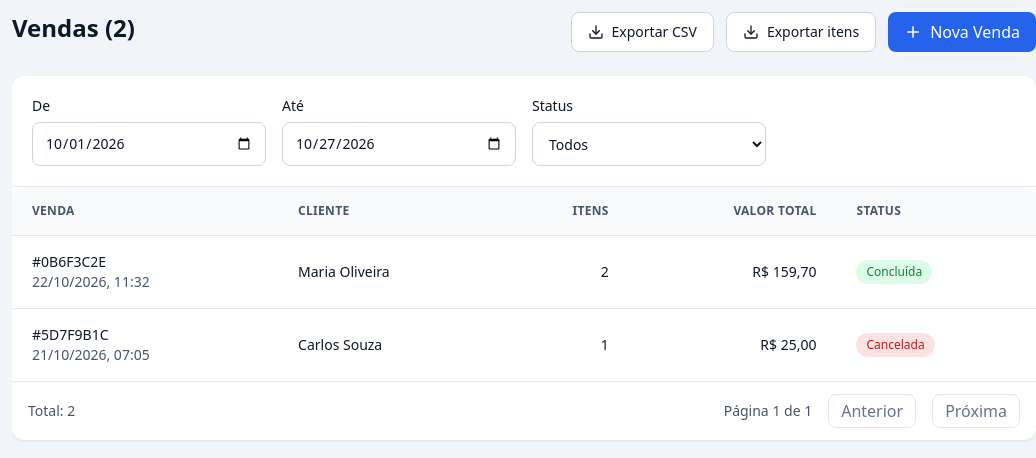
Test: SaleListPage: período e status na lista › data inicial depois da final também esconde as linhas e avisa o período
Expected: the text "Maria Oliveira" is shown, 278,236 -> 500,308
Type "2000-01-01" into the date field labelled "Até".
click(399, 144); type("2000-01-01")  # box 282,122 -> 516,166
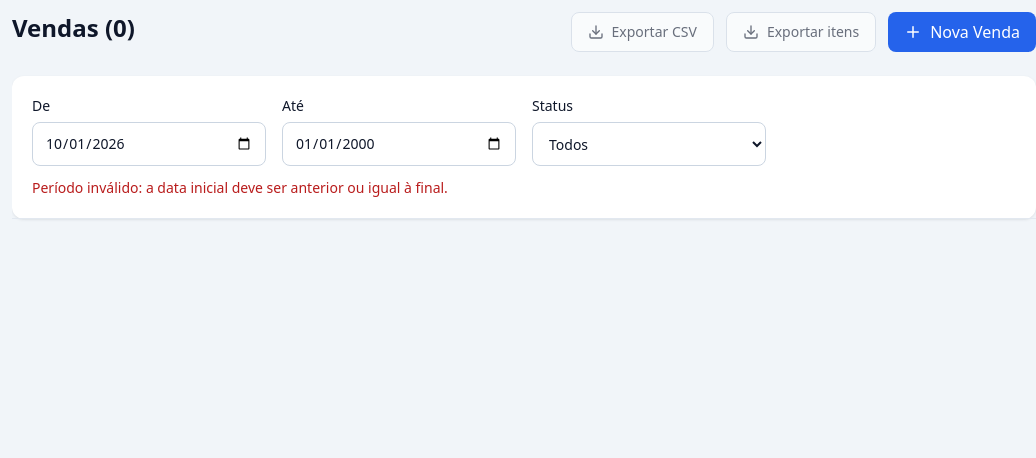
Expected: the message shows "Período", 32,178 -> 448,197
Expected: the text "Maria Oliveira" is gone
